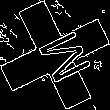M_SW: (22, 23, 88, 87)
